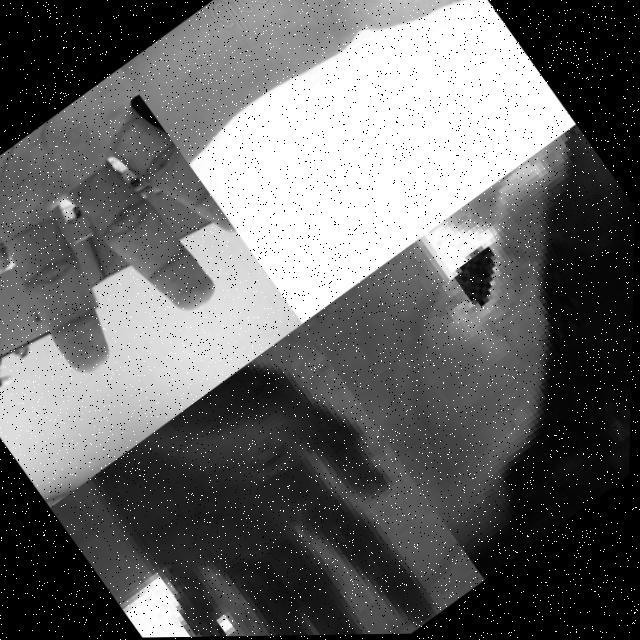no-gloves: (69, 323, 489, 639), (300, 153, 638, 532), (0, 66, 263, 446), (273, 0, 492, 94)
